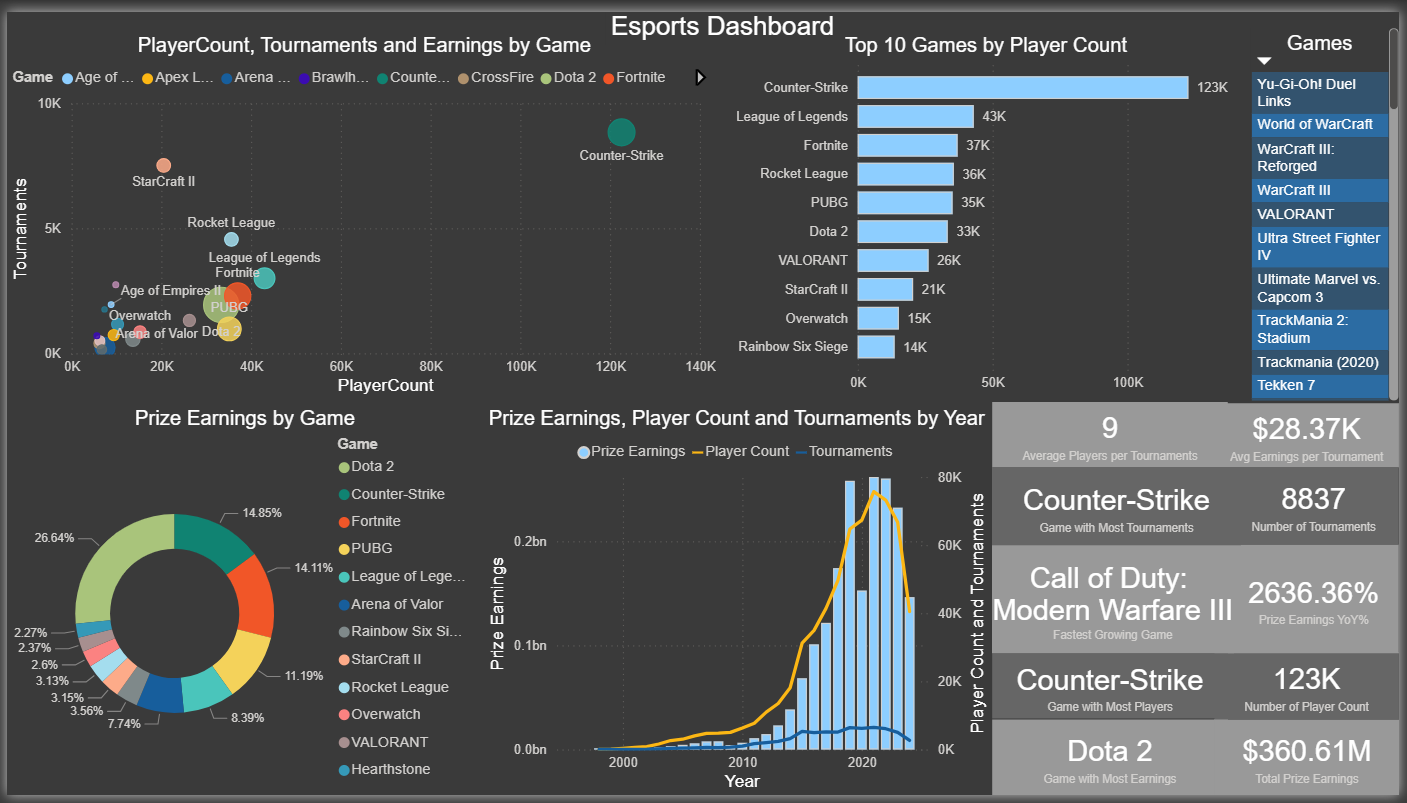

This screenshot's page, from the dashboard's own definition file:
{"tool":"powerbi","page":{"name":"Esports Dashboard","canvas":[1280,720],"ordinal":0},"visuals":[{"type":"donutChart","fields":{"Y":["Sum(HistoricalEsportData.PrizeEarnings)"],"Category":["HistoricalEsportData.Game Standardized"]},"box":[0,358.1,437.7,362.3],"z":0},{"type":"card","fields":{"Values":["Min(HistoricalEsportData.Game Standardized)"]},"box":[906,650,217,70],"z":1000},{"type":"card","fields":{"Values":["Sum(HistoricalEsportData.PrizeEarnings)"]},"box":[1110,650,170,70],"z":2000},{"type":"card","fields":{"Values":["Sum(HistoricalEsportData.PlayerCount)"]},"box":[1110.4,589,169.3,61.4],"z":3000},{"type":"card","fields":{"Values":["Min(HistoricalEsportData.Game Standardized)"]},"box":[906,590,217,60],"z":4000},{"type":"scatterChart","title":"PlayerCount, Tournaments and Prize Earnings by Game","fields":{"X":["Sum(HistoricalEsportData.PlayerCount)"],"Y":["Sum(HistoricalEsportData.Tournaments)"],"Size":["Sum(HistoricalEsportData.PrizeEarnings)"],"Series":["HistoricalEsportData.Game Standardized"]},"box":[0,0,612,359],"z":5000},{"type":"card","fields":{"Values":["Date.Sum of PrizeEarnings divided by Sum of Tournaments"]},"box":[1110.4,359.5,169.3,58.9],"z":6000},{"type":"card","fields":{"Values":["Date.Sum of PlayerCount divided by Sum of Tournaments"]},"box":[906,359,217,60],"z":7000},{"type":"lineStackedColumnComboChart","fields":{"Y2":["Sum(HistoricalEsportData.PlayerCount)","Sum(HistoricalEsportData.Tournaments)"],"Category":["HistoricalEsportData.Year"],"Y":["Sum(HistoricalEsportData.PrizeEarnings)"]},"box":[437.7,358.1,467.9,362.3],"z":8000},{"type":"card","fields":{"Values":["Date.Sum of PrizeEarnings YoY% 2"]},"box":[1122.7,489.6,157.1,100],"z":9000},{"type":"card","fields":{"Values":["Min(HistoricalEsportData.Game Standardized)"]},"box":[906,490,222,100],"z":10000},{"type":"clusteredBarChart","title":"Top 10 Games by Player Count","fields":{"Category":["HistoricalEsportData.Game Standardized"],"Y":["Sum(HistoricalEsportData.PlayerCount)"]},"box":[612.3,1.2,531.3,358.3],"z":11000},{"type":"card","title":"Game with Most Tournaments","fields":{"Values":["Sum(HistoricalEsportData.Tournaments)"]},"box":[1122.7,418.4,157.1,71.2],"z":12000},{"type":"card","title":"Game with Most Tournaments","fields":{"Values":["Min(HistoricalEsportData.Game Standardized)"]},"box":[906,418,229,72],"z":13000},{"type":"tableEx","title":"Games","fields":{"Values":["HistoricalEsportData.Game Standardized"]},"box":[1143.6,1.2,136.2,355.8],"z":14000}]}

Visuals, with their boxes in screenshot pixels (x1, y1, x2, y2), scaled from the page's 1280x720 canvas onto the 1407x803 screenshot:
donutChart - Sum(HistoricalEsportData.PrizeEarnings) x HistoricalEsportData.Game Standardized: select_region(0, 399, 481, 802)
card - Min(HistoricalEsportData.Game Standardized): select_region(996, 725, 1234, 802)
card - Sum(HistoricalEsportData.PrizeEarnings): select_region(1220, 725, 1406, 802)
card - Sum(HistoricalEsportData.PlayerCount): select_region(1221, 657, 1406, 725)
card - Min(HistoricalEsportData.Game Standardized): select_region(996, 658, 1234, 725)
"PlayerCount, Tournaments and Prize Earnings by Game" scatterChart: select_region(0, 0, 673, 400)
card - Date.Sum of PrizeEarnings divided by Sum of Tournaments: select_region(1221, 401, 1406, 467)
card - Date.Sum of PlayerCount divided by Sum of Tournaments: select_region(996, 400, 1234, 467)
lineStackedColumnComboChart - Sum(HistoricalEsportData.PlayerCount) x Sum(HistoricalEsportData.Tournaments): select_region(481, 399, 995, 802)
card - Date.Sum of PrizeEarnings YoY% 2: select_region(1234, 546, 1406, 658)
card - Min(HistoricalEsportData.Game Standardized): select_region(996, 546, 1240, 658)
"Top 10 Games by Player Count" clusteredBarChart: select_region(673, 1, 1257, 401)
"Game with Most Tournaments" card: select_region(1234, 467, 1406, 546)
"Game with Most Tournaments" card: select_region(996, 466, 1248, 546)
"Games" tableEx: select_region(1257, 1, 1406, 398)
